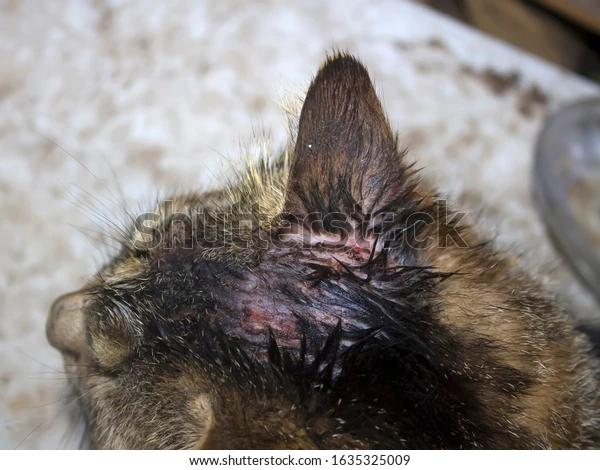ringworm: (229, 222, 398, 351)
